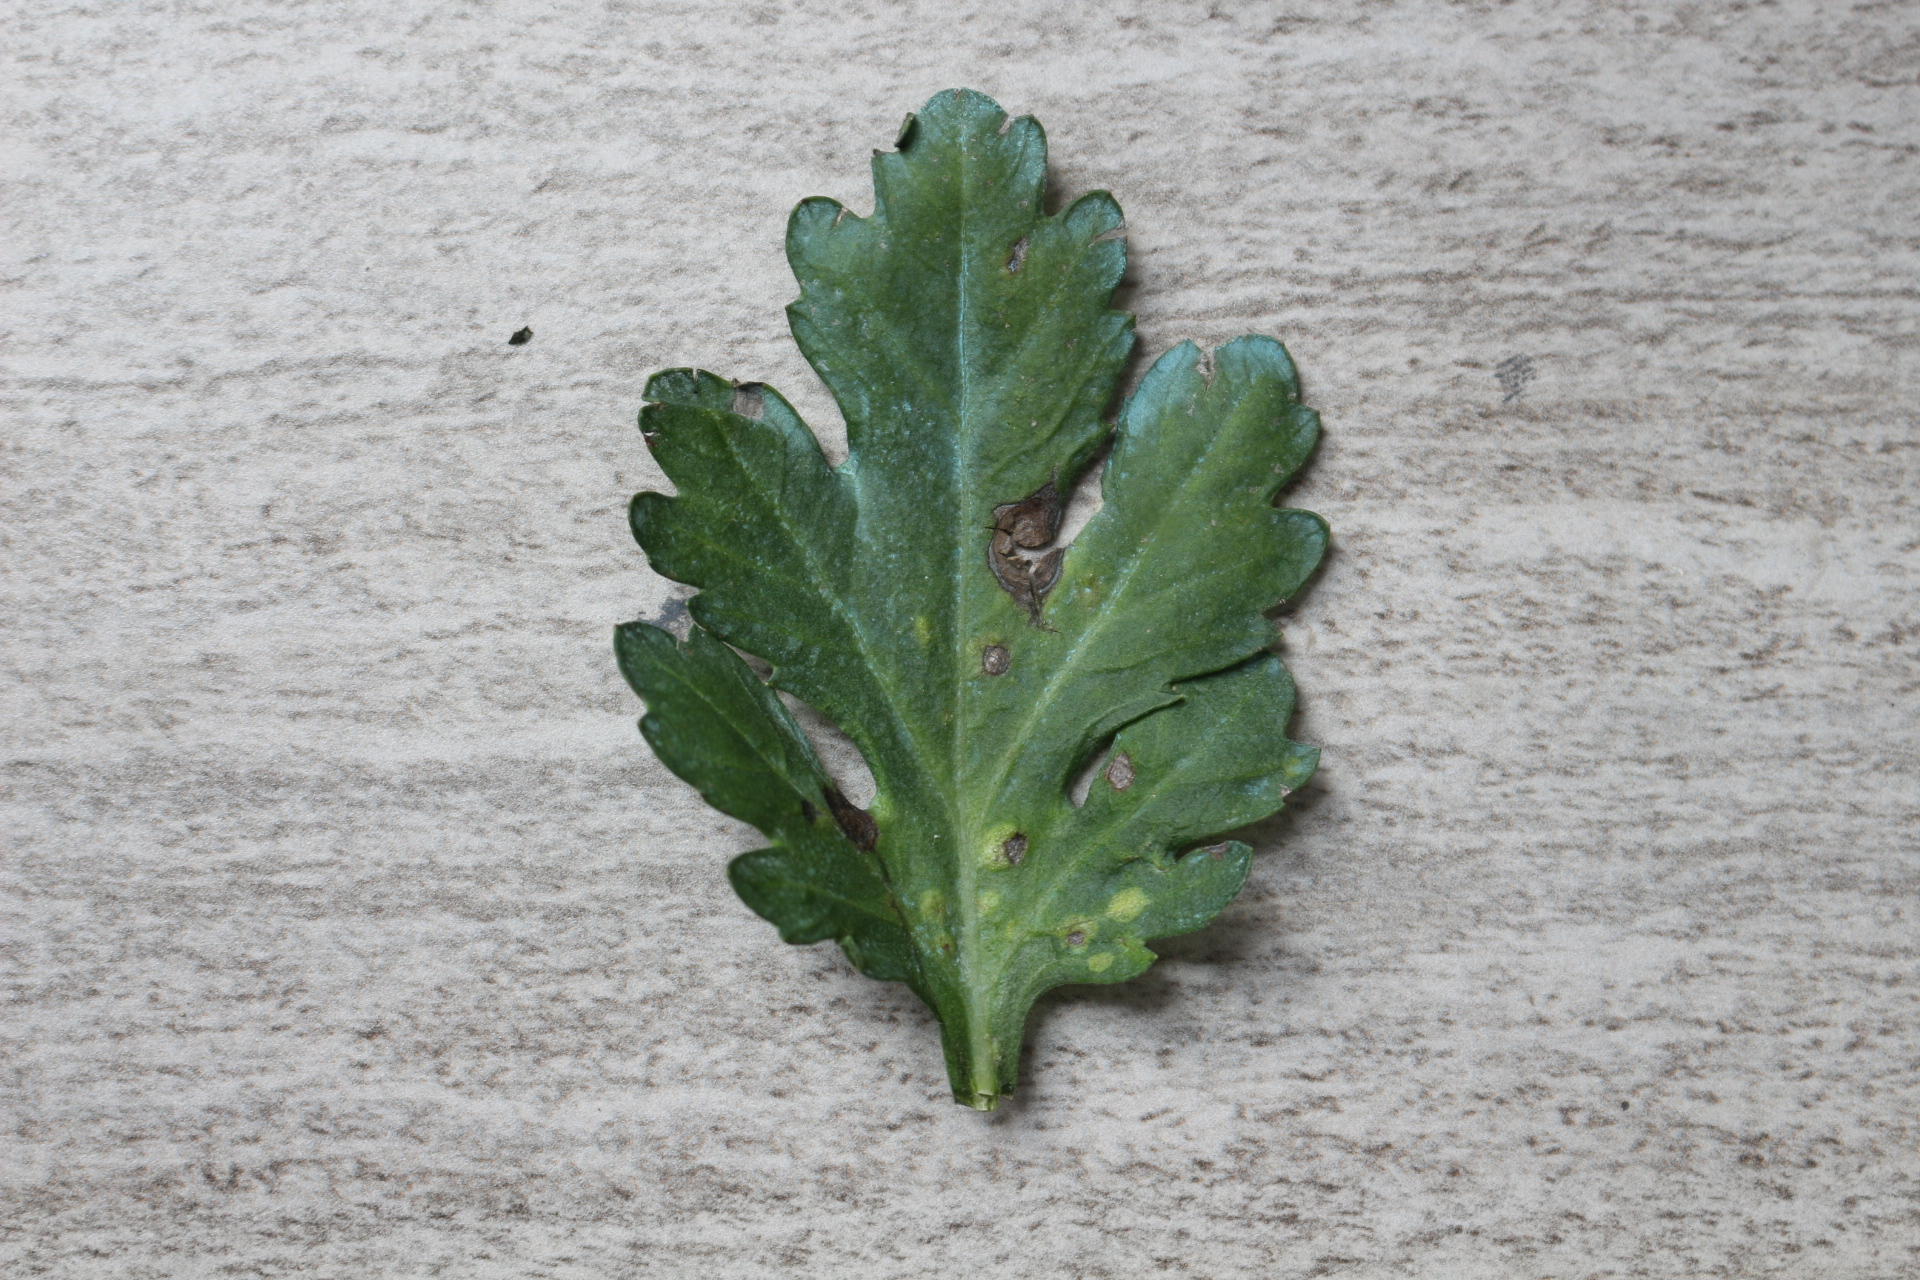namden: (980, 477, 1070, 610), (829, 786, 884, 853), (724, 386, 769, 429), (979, 641, 1019, 681), (1001, 234, 1031, 281), (1000, 831, 1030, 871), (1109, 757, 1139, 789)
namsung: (911, 886, 951, 949), (1106, 886, 1147, 926), (1060, 916, 1099, 956), (909, 607, 937, 650), (1083, 950, 1117, 979)
